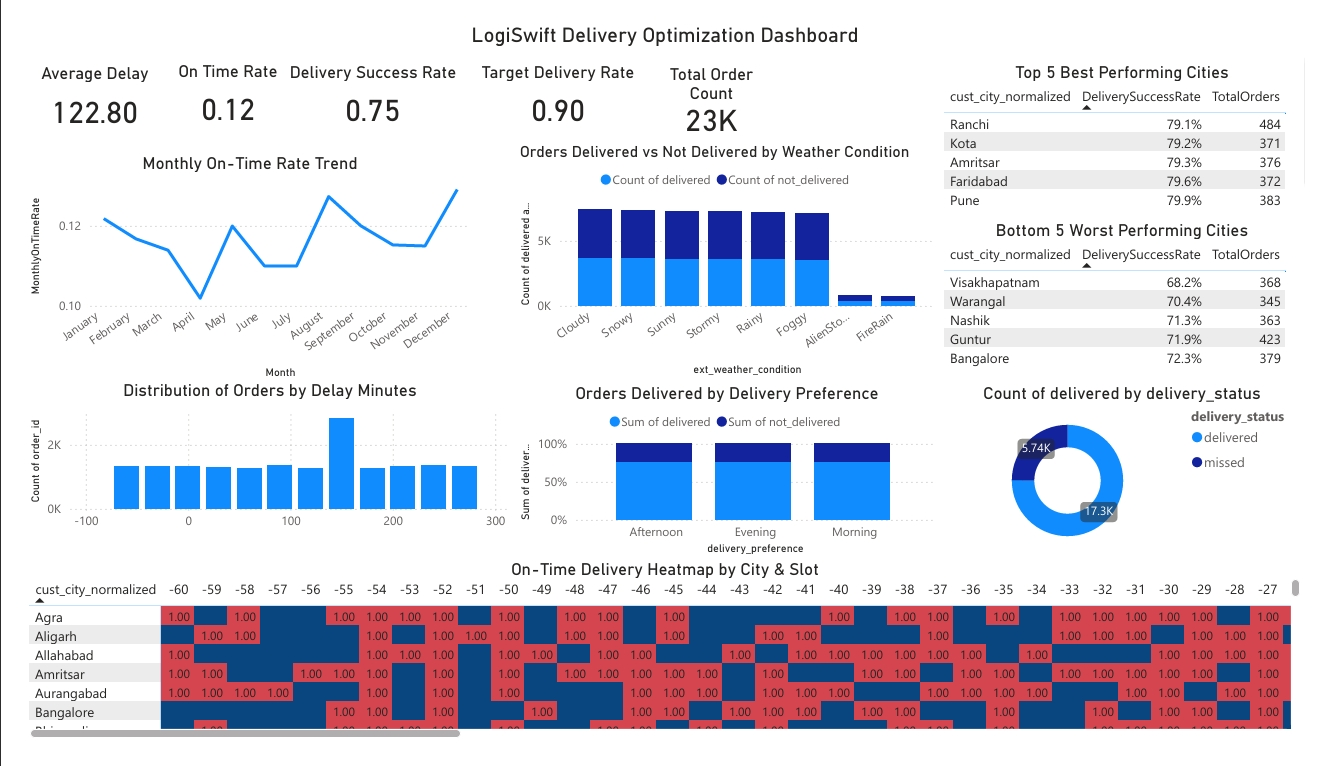

The dashboard page shown, as its layout file describes it:
{"tool":"powerbi","page":{"name":"Page 1","canvas":[1280,720],"ordinal":0},"visuals":[{"type":"card","title":"On Time Rate","fields":{"Values":[" Mesure Table.OnTimeRate"]},"box":[139.7,38,126,79],"z":0},{"type":"card","title":"Average Delay","fields":{"Values":[" Mesure Table.AvgDelay"]},"box":[0,40,140,80],"z":1000},{"type":"card","title":"Total Order Count","fields":{"Values":[" Mesure Table.OrderCount"]},"box":[615.7,41.4,141.4,75.7],"z":2000},{"type":"pivotTable","title":"On-Time Delivery Heatmap by City & Slot","fields":{"Rows":["master_table_cleaned.cust_city_normalized"],"Values":[" Mesure Table.OnTimeRate"],"Columns":["master_table_cleaned.delay_minutes"]},"box":[0,535.9,1280,184.6],"z":3000},{"type":"lineChart","title":"Monthly On-Time Rate Trend","fields":{"Category":["master_table_cleaned.OrderDateOnly.Variation.Date Hierarchy.Month"],"Y":[" Mesure Table.MonthlyOnTimeRate"]},"box":[0,130,450,230],"z":4000},{"type":"columnChart","title":"Distribution of Orders by Delay Minutes","fields":{"Y":["CountNonNull(master_table_cleaned.order_id)"],"Category":["master_table_cleaned.delay_minutes (bins)"]},"box":[0,357.1,490,158.6],"z":5000},{"type":"columnChart","title":"Orders Delivered vs Not Delivered by Weather Condition","fields":{"Y":["CountNonNull(master_table_cleaned.delivered)","CountNonNull(master_table_cleaned.not_delivered)"],"Category":["master_table_cleaned.ext_weather_condition"]},"box":[490,118.6,424.3,238.6],"z":6000},{"type":"donutChart","fields":{"Category":["master_table_cleaned.delivery_status"],"Y":["CountNonNull(master_table_cleaned.delivered)"]},"box":[914.3,360,365.7,175.7],"z":7000},{"type":"tableEx","title":"Top 5 Best Performing Cities","fields":{"Values":["master_table_cleaned.cust_city_normalized"," Mesure Table.DeliverySuccessRate"," Mesure Table.TotalOrders"]},"box":[914.3,38.6,365.7,158.6],"z":8000},{"type":"tableEx","title":"Bottom 5 Worst Performing Cities","fields":{"Values":["master_table_cleaned.cust_city_normalized"," Mesure Table.DeliverySuccessRate"," Mesure Table.TotalOrders"]},"box":[914.3,197.1,365.7,162.9],"z":9000},{"type":"hundredPercentStackedColumnChart","title":"Orders Delivered by Delivery Preference","fields":{"Category":["master_table_cleaned.delivery_preference"],"Y":["Sum(master_table_cleaned.delivered)","Sum(master_table_cleaned.not_delivered)"]},"box":[490,360,424.3,175.7],"z":10000},{"type":"card","title":"Delivery Success Rate","fields":{"Values":[" Mesure Table.DeliverySuccessRate"]},"box":[255.7,38.6,184.3,78.6],"z":11000},{"type":"card","title":"Target Delivery Rate","fields":{"Values":[" Mesure Table.TargetDeliveryRate"]},"box":[450,38.6,165.7,78.6],"z":12000},{"type":"shape","title":"LogiSwift Delivery Optimization Dashboard","box":[0,0,1280,40],"z":13000}]}

Visuals, with their boxes in screenshot pixels (x1, y1, x2, y2), scaled from the page's 1280x720 canvas onto the 1326x766 screenshot:
"On Time Rate" card: 145, 40, 275, 124
"Average Delay" card: 0, 43, 145, 128
"Total Order Count" card: 638, 44, 784, 125
"On-Time Delivery Heatmap by City & Slot" pivotTable: 0, 570, 1325, 765
"Monthly On-Time Rate Trend" lineChart: 0, 138, 466, 383
"Distribution of Orders by Delay Minutes" columnChart: 0, 380, 508, 549
"Orders Delivered vs Not Delivered by Weather Condition" columnChart: 508, 126, 947, 380
donutChart - master_table_cleaned.delivery_status x CountNonNull(master_table_cleaned.delivered): 947, 383, 1325, 570
"Top 5 Best Performing Cities" tableEx: 947, 41, 1325, 210
"Bottom 5 Worst Performing Cities" tableEx: 947, 210, 1325, 383
"Orders Delivered by Delivery Preference" hundredPercentStackedColumnChart: 508, 383, 947, 570
"Delivery Success Rate" card: 265, 41, 456, 125
"Target Delivery Rate" card: 466, 41, 638, 125
"LogiSwift Delivery Optimization Dashboard" shape: 0, 0, 1325, 43
